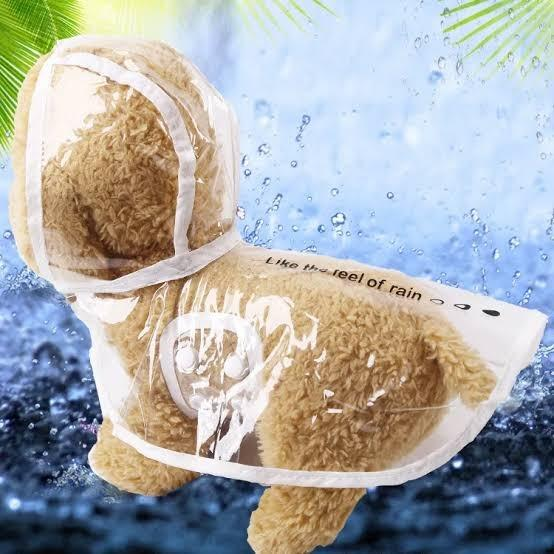non-dog: (6, 34, 549, 553)
